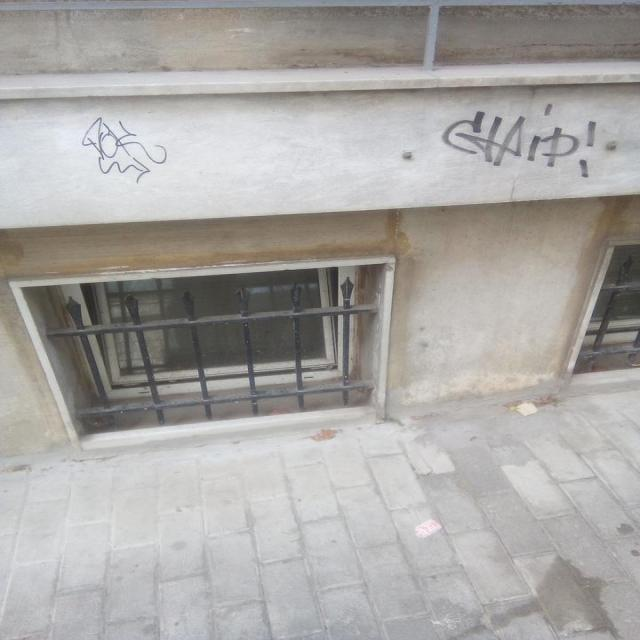nonspitting: (442, 102, 598, 178), (80, 116, 170, 182)
